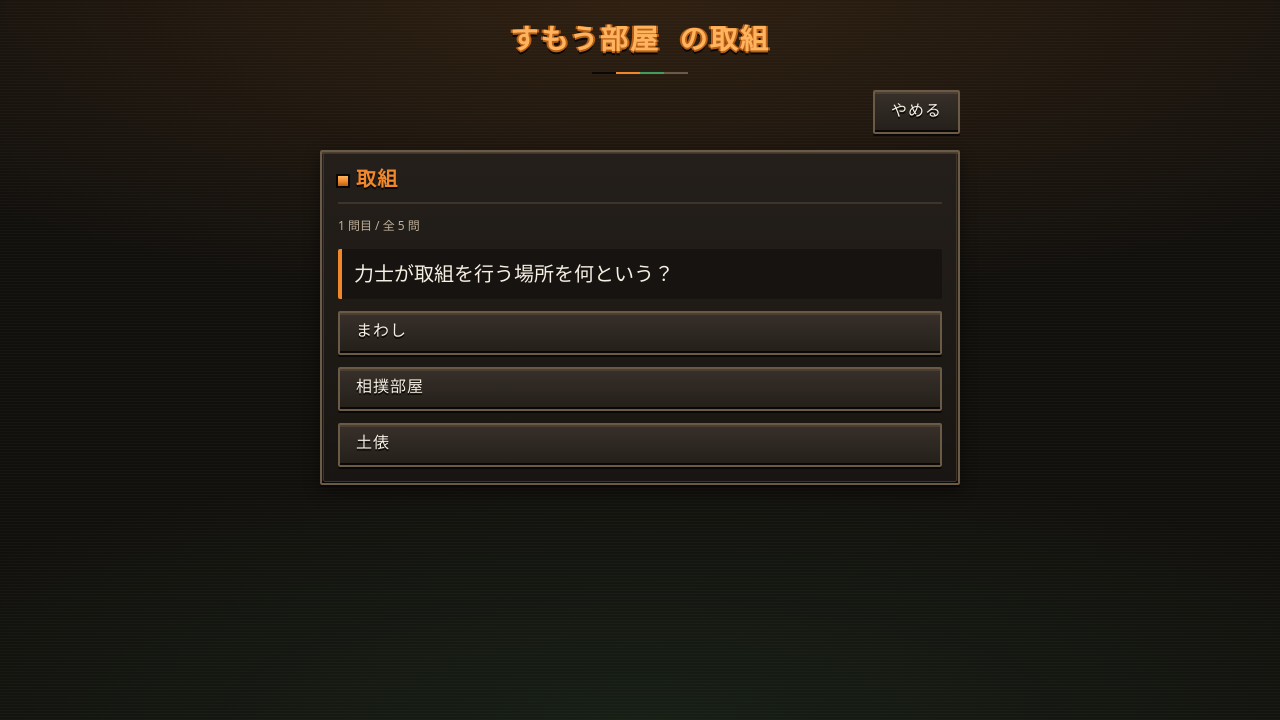
Test case: 取組画面 › 回答後は選択肢を押し直せない
The width and height of the screenshot is (1280, 720).
expect the text "力士が取組を行う場所を何という？" is shown: met, box [338,249,942,299]
Click the button "土俵" at point(373, 444), box [338,423,942,467]
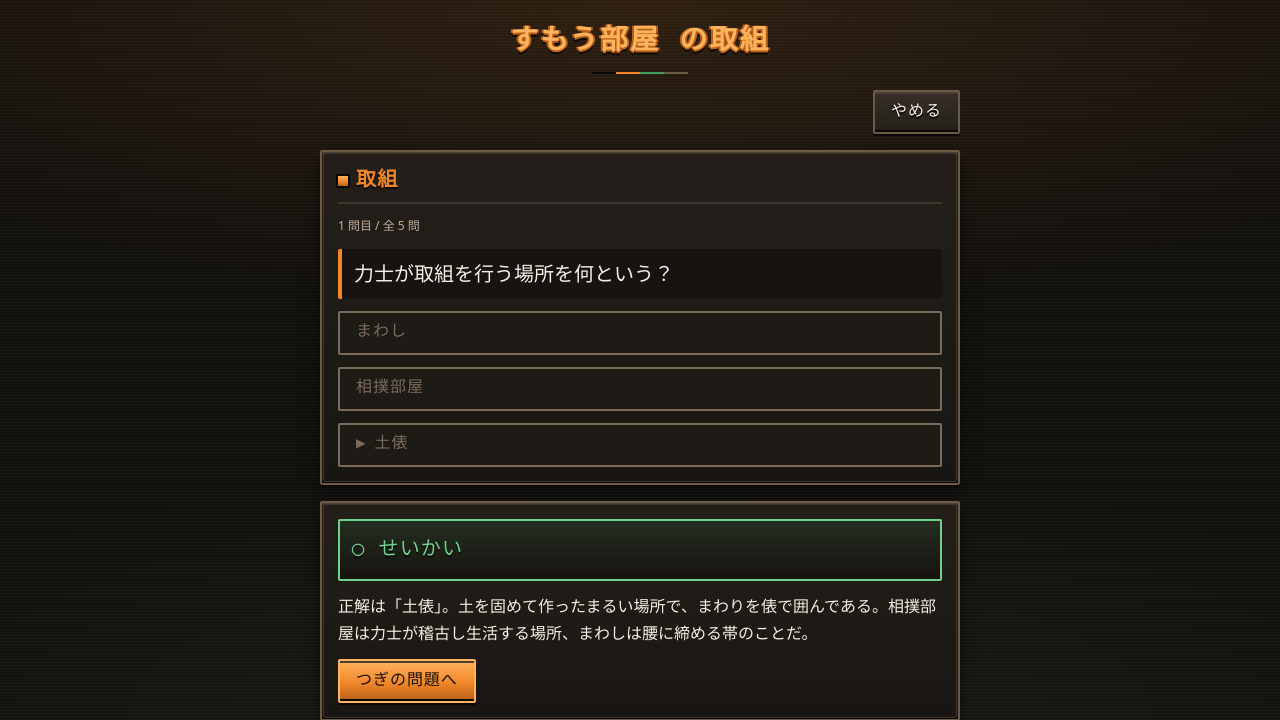
expect the button "土俵" is disabled: met, box [338,423,942,467]
expect the button "相撲部屋" is disabled: met, box [338,367,942,411]
expect the button "まわし" is disabled: met, box [338,311,942,355]
